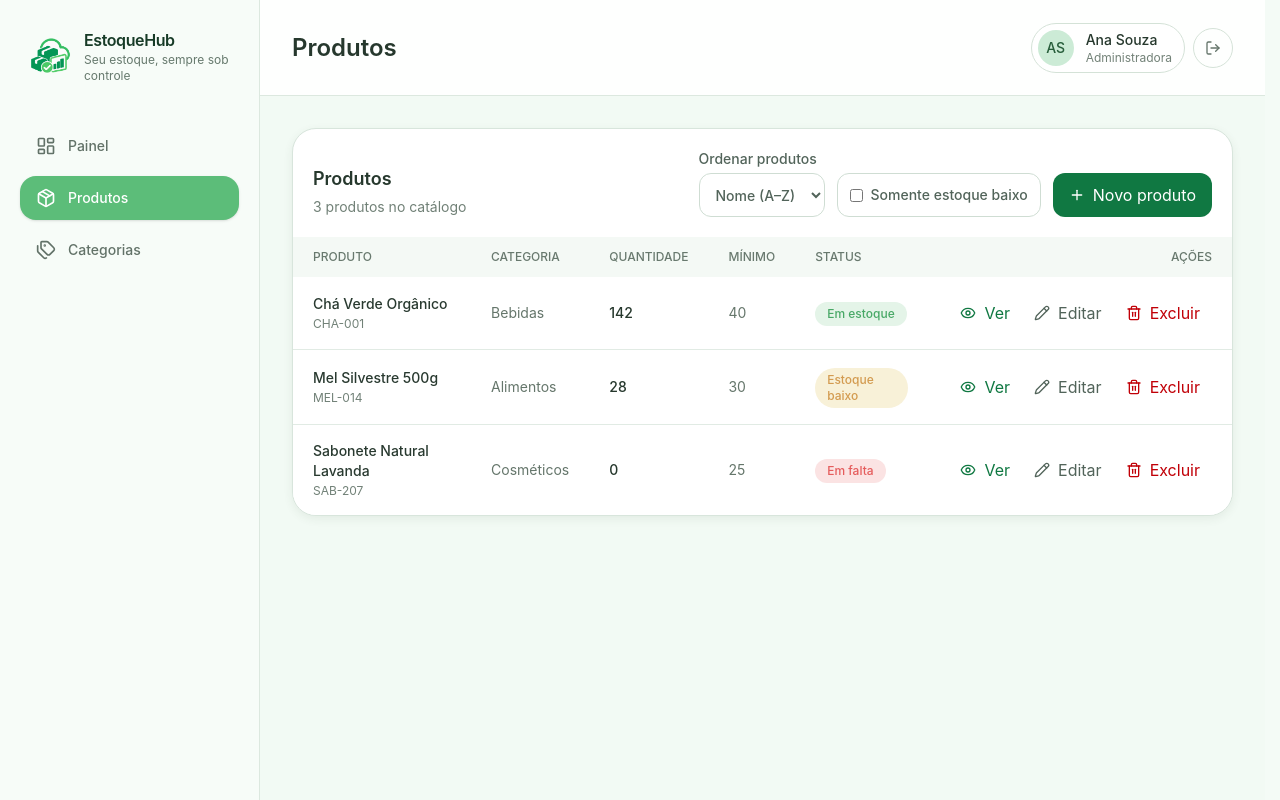
Test: ProductsPage › opens API-backed product details
Click the button with aria-label "ver chá verde orgânico".
click(985, 313)  # box [948, 293, 1022, 333]
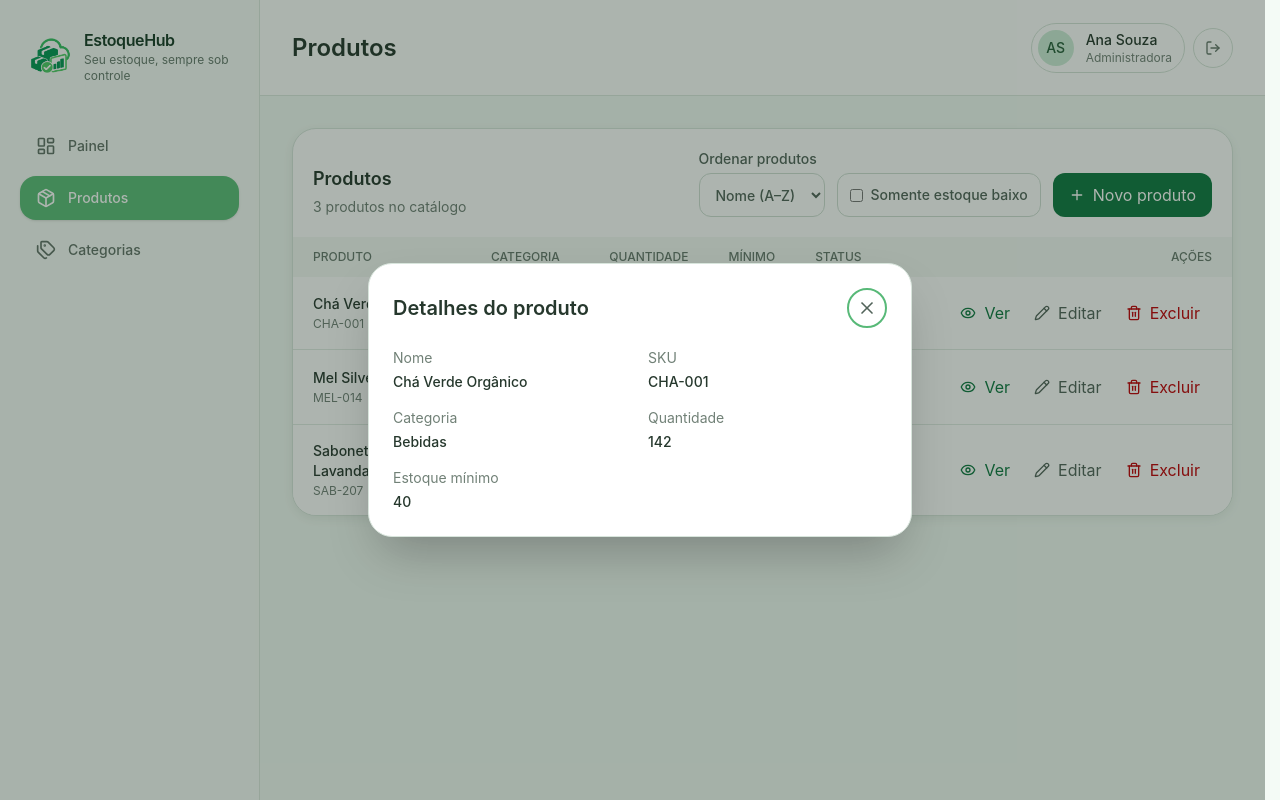
Expected: the text "CHA-001" is shown, [648, 373, 708, 390]
Expected: the text "Bebidas" is shown, [393, 433, 447, 450]
Expected: the text "142" is shown, [648, 433, 672, 450]
